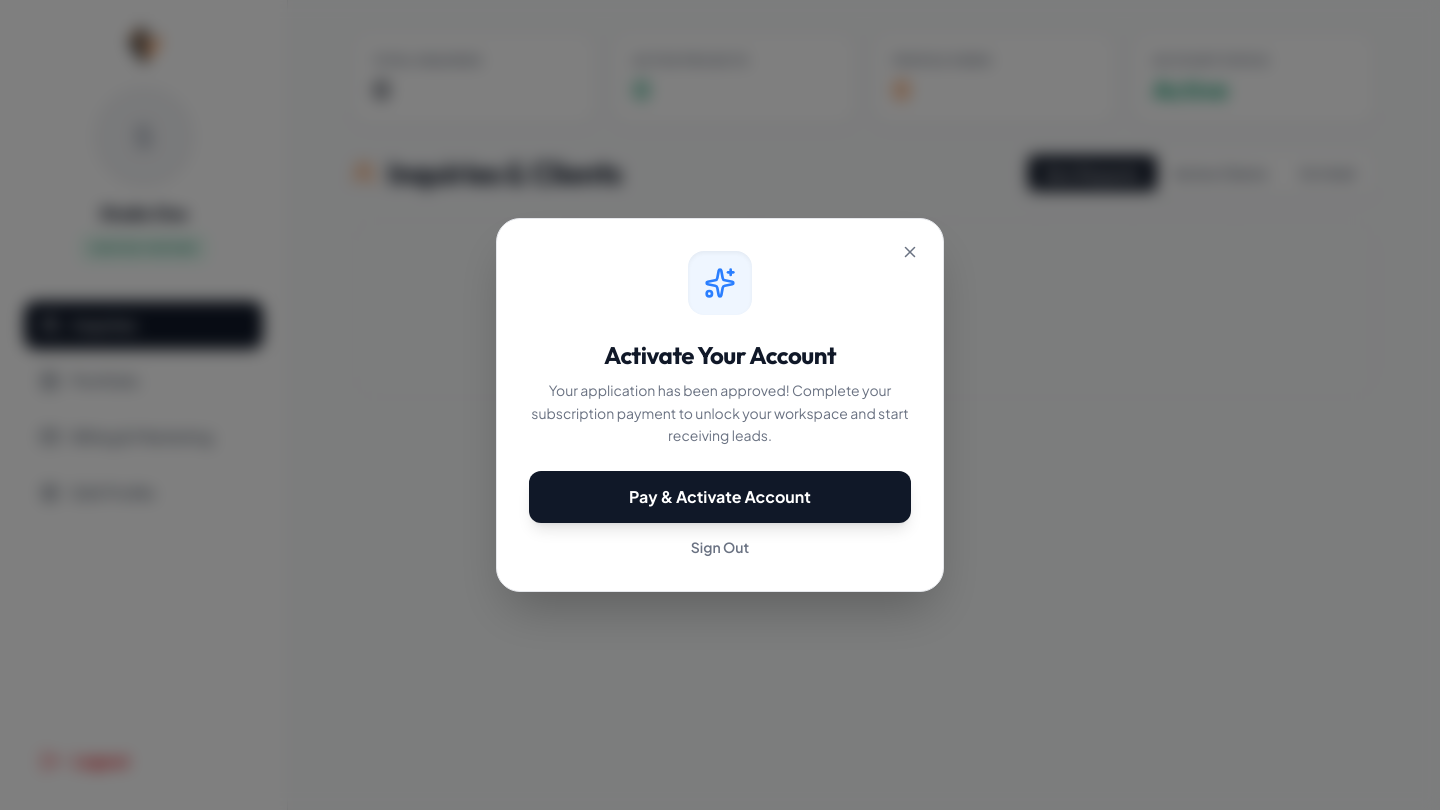
Test: existing full designer profile editor inside the dashboard › keeps the full profile editor available and preserves existing profile values
Later steps or results of the test are not shown.
Expected: the heading "Inquiries & Clients" is shown, left=352, top=155, right=621, bottom=191
Expected: the heading "Activate Your Account" is shown, left=604, top=340, right=836, bottom=370
What coordinates should you click on to do the following:
click the button named "Close activation prompt"
I would click on:
 (910, 252)
Its box is left=893, top=235, right=927, bottom=269.
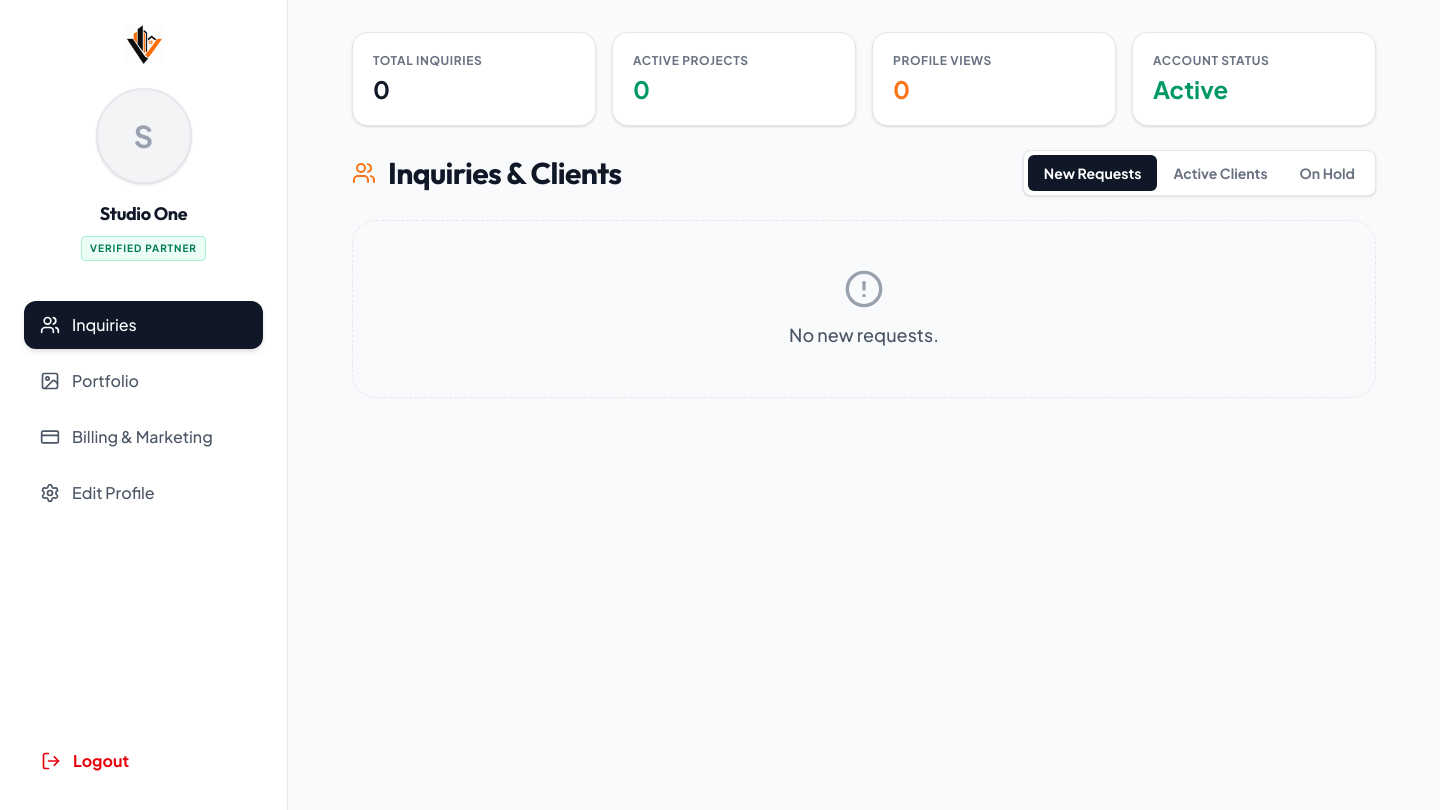
What coordinates should you click on to do the following:
click the button "Edit Profile"
I would click on:
 (144, 493)
Its box is left=24, top=469, right=263, bottom=517.
(page scrolled)
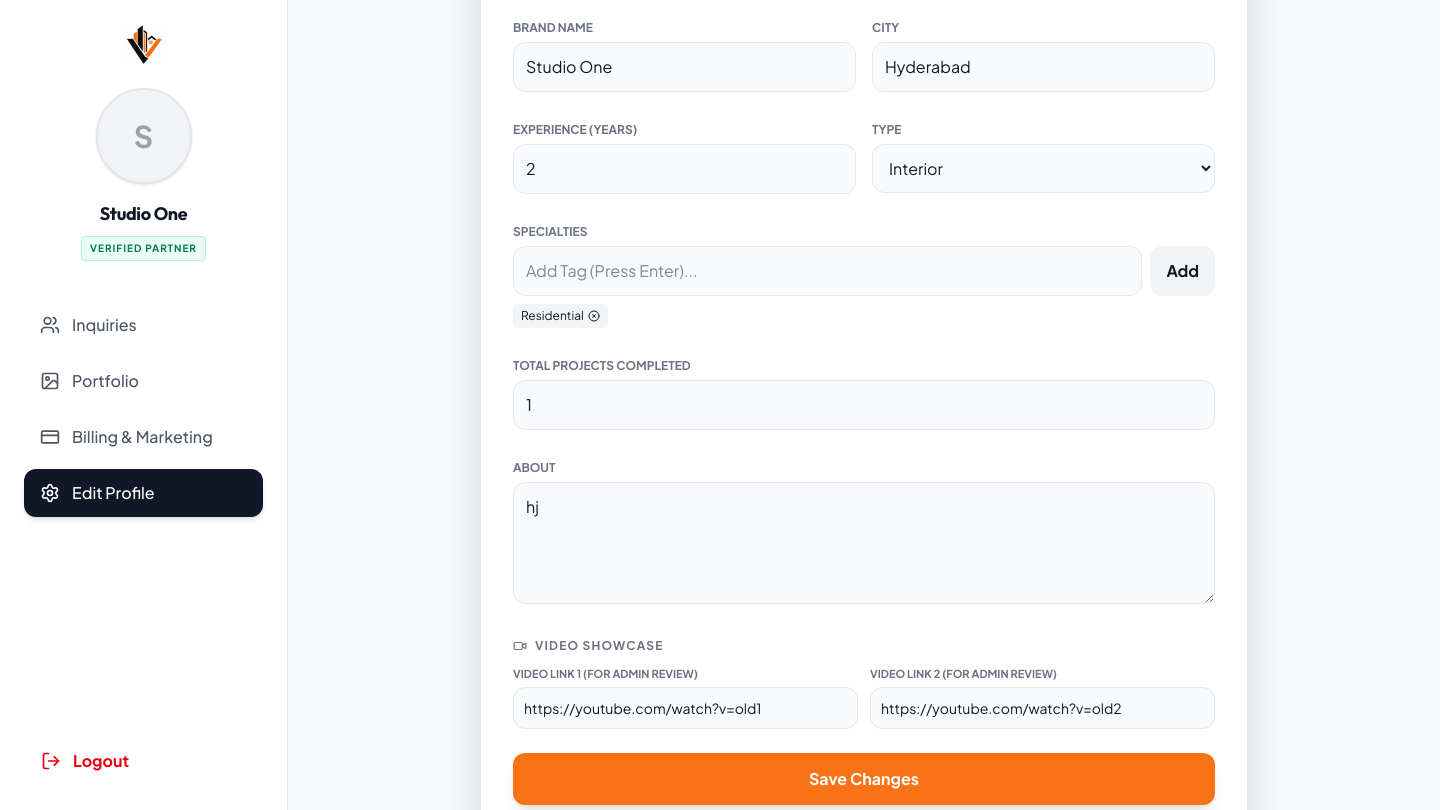
Now the field showing "Studio One" below "Brand Name" is shown, box left=513, top=42, right=856, bottom=92
Now the field showing "Hyderabad" below "City" is shown, box left=872, top=42, right=1215, bottom=92
Now the number field showing "1" below "Total Projects Completed" is shown, box left=513, top=380, right=1215, bottom=430
